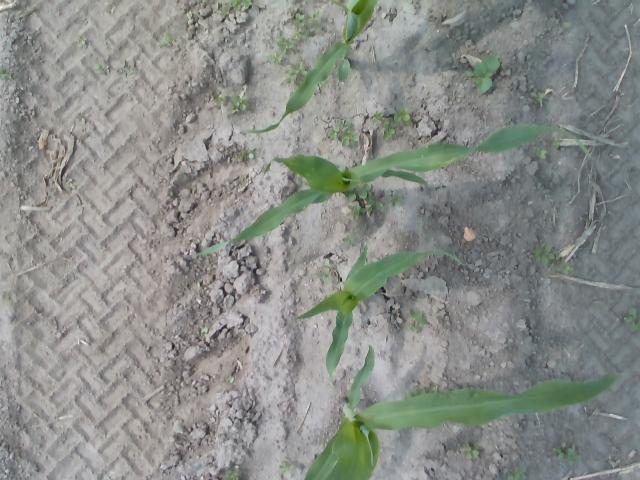Maize: (196, 124, 593, 257), (304, 345, 618, 480), (283, 245, 464, 385), (241, 0, 379, 134)
Weeds: (465, 54, 500, 94), (291, 8, 321, 41), (554, 444, 580, 466), (534, 242, 554, 264), (341, 122, 359, 146), (316, 260, 333, 284), (284, 63, 304, 80), (626, 308, 640, 332), (278, 37, 294, 55), (410, 309, 430, 323), (231, 96, 248, 112), (393, 108, 410, 124), (348, 204, 364, 220), (227, 0, 252, 10), (464, 443, 478, 460), (156, 32, 172, 46), (508, 468, 526, 480), (370, 193, 384, 206), (94, 61, 108, 74), (556, 263, 572, 274), (211, 92, 226, 103), (390, 194, 403, 206), (536, 147, 548, 160), (76, 36, 88, 48), (281, 462, 294, 473), (536, 92, 546, 106), (267, 54, 282, 63), (328, 128, 339, 140), (384, 125, 394, 138), (4, 292, 14, 303), (374, 112, 384, 123), (226, 471, 238, 480), (217, 8, 230, 16), (247, 146, 255, 158), (342, 236, 355, 243), (226, 376, 235, 384), (410, 325, 419, 332), (6, 73, 13, 80)
